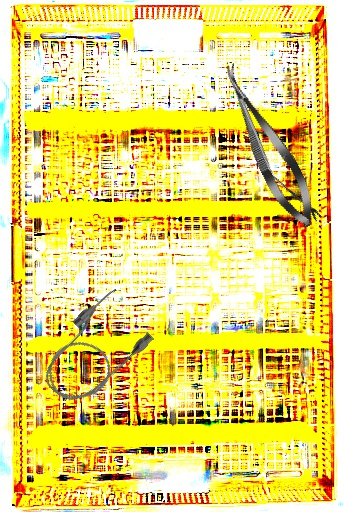Cannula: (27, 283, 161, 416)
Micro Scissor: (211, 57, 325, 235), (236, 117, 332, 228)
